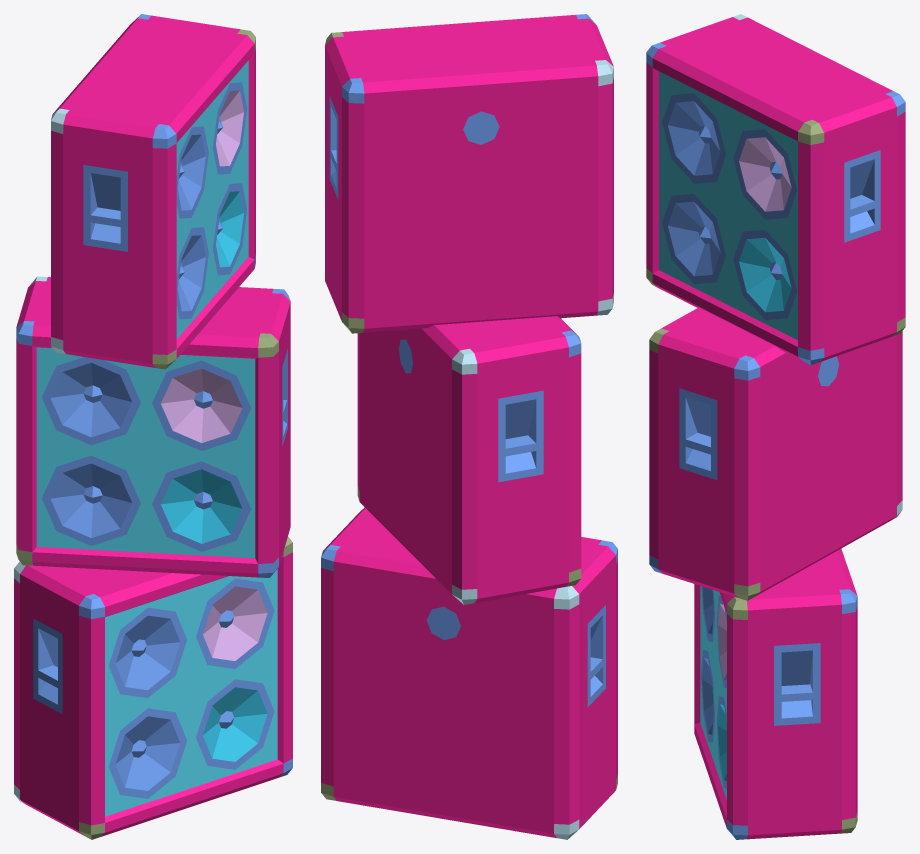
The model's file is 057_Speaker.fbx.
3 renders of one model, left to right at view 1: azimuth 30°, elevation 25°; view 2: azimuth 150°, elevation 25°; view 3: azimuth 270°, elevation 25°, orthographic. The views are drawn at different scales.
Visible parts, largest first — view 1: Speakers; view 2: Speakers; view 3: Speakers.
Boxes of the visible parts, left/top/right/bottom form: Speakers: left=14, top=14, right=292, bottom=839; Speakers: left=321, top=14, right=617, bottom=839; Speakers: left=646, top=14, right=905, bottom=839.
Bounding box in the file's own units: 35.91 × 101 × 33.38.
